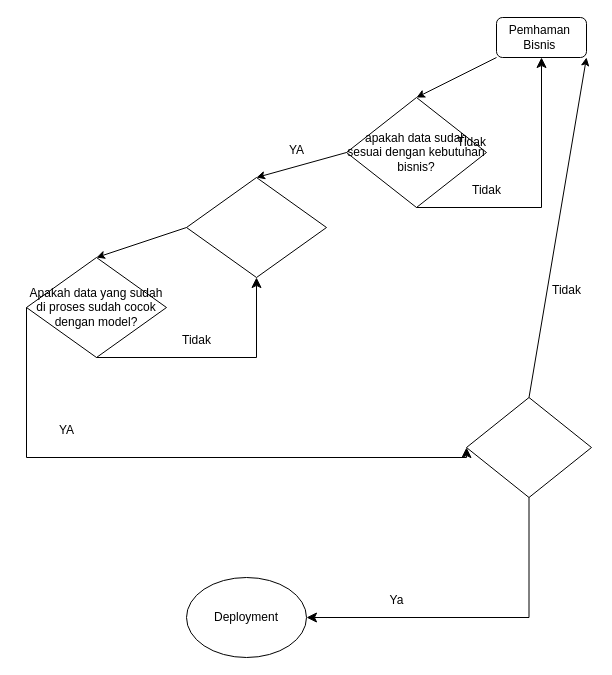
Some shapes in this 612 by 675 pixel diagram are drawn without their labels. The shapes that lost their labels are listed below. From the top down, each one's centre as x and y in pixels, then its label:
At [256,227]: "Data Prepocessing".
At [529,447]: "Apakah Evaluasi sudah memuaskan?".
